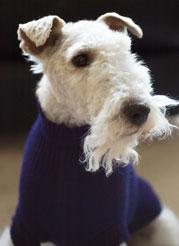wire-haired_fox_terrier: (0, 7, 177, 245)
